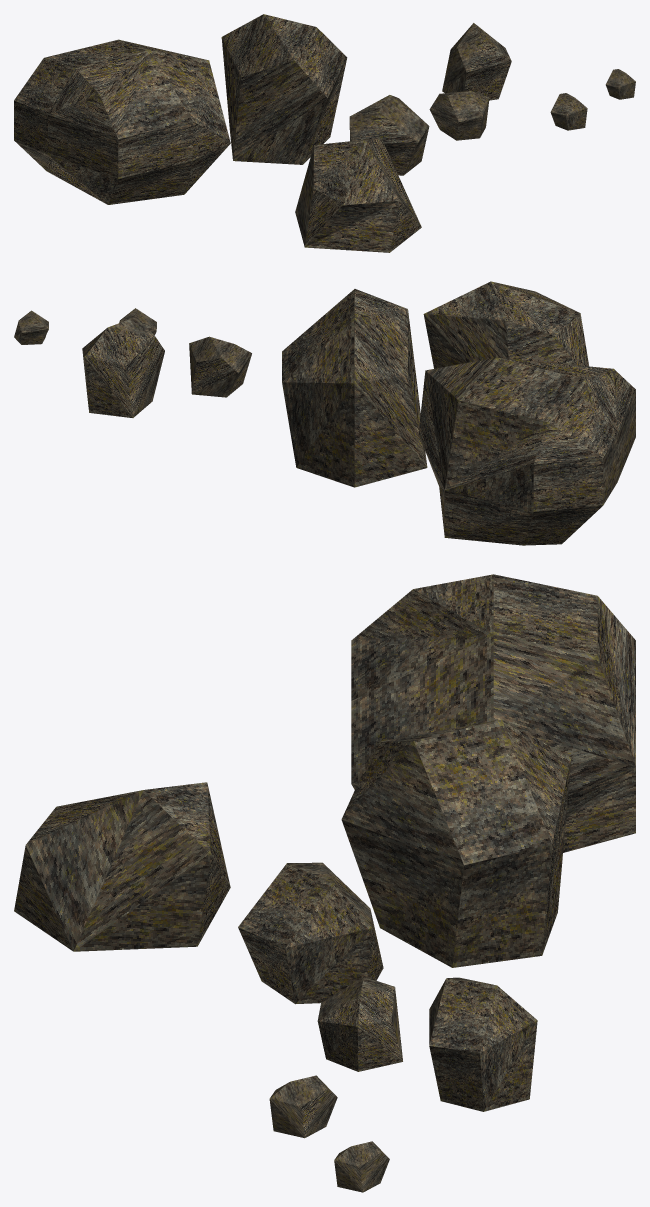
Rendered from rocks04.obj.
3 views of the same model, one above another, from view 1: azimuth 30°, elevation 25°; view 2: azimuth 150°, elevation 25°; view 3: azimuth 270°, elevation 25° (orthographic). The views are drawn at different scales.
Visible parts, largest first — view 1: Rocks4; view 2: Rocks4; view 3: Rocks4.
Boxes of the visible parts, x1=… form: Rocks4: x1=14, y1=14, x2=635, y2=252; Rocks4: x1=14, y1=281, x2=635, y2=545; Rocks4: x1=14, y1=574, x2=635, y2=1192.
Bounding box in the file's own units: 37.71 × 8.15 × 22.
1 material, 1 textured.
